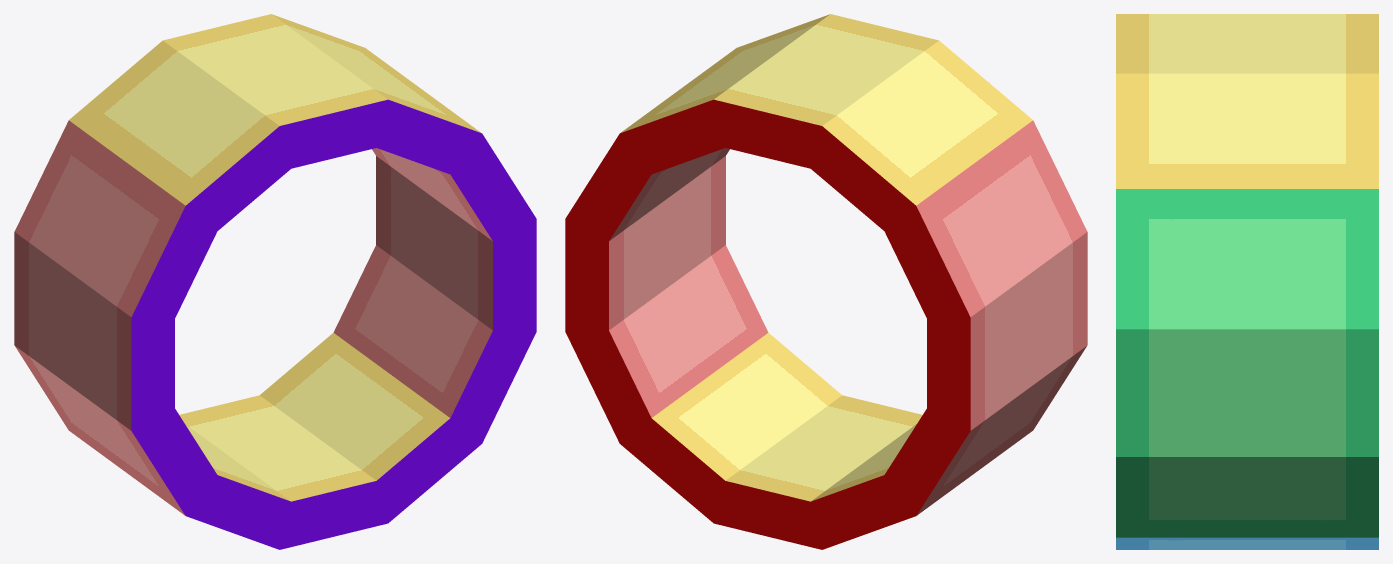
The model's file is zio.obj.
3 renders of one model, left to right at view 1: azimuth 30°, elevation 25°; view 2: azimuth 150°, elevation 25°; view 3: azimuth 270°, elevation 25°, orthographic. The views are drawn at different scales.
Visible parts, largest first — view 1: tube; view 2: tube; view 3: tube.
Part boxes in pixels (x1,y1,x2,y2): tube: [14, 14, 536, 549]; tube: [565, 14, 1087, 549]; tube: [1116, 14, 1378, 549].
Size of the model in its own units: 1 by 1 by 0.5.
